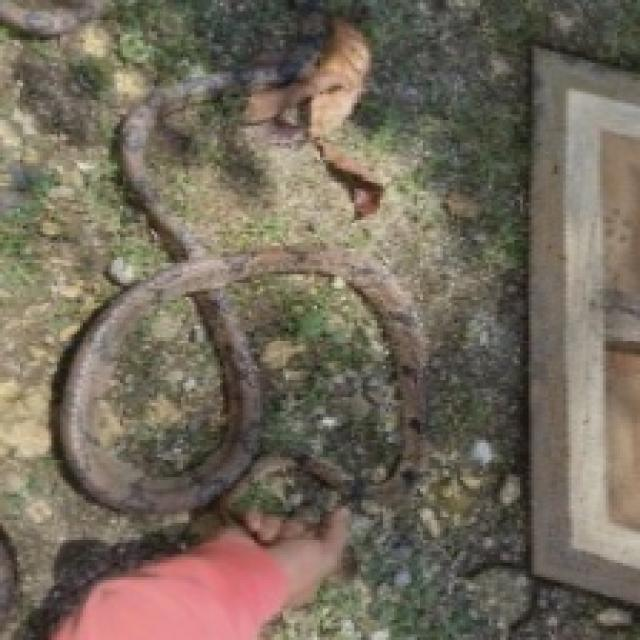dog-toothed cat snake: (59, 48, 425, 512)
